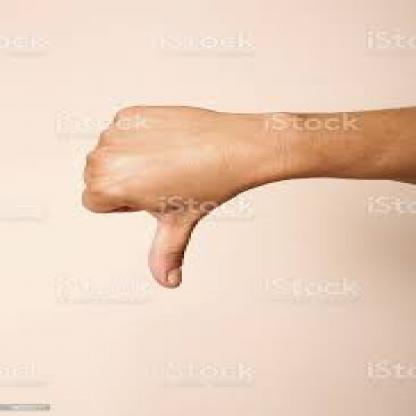thumb_down: (80, 94, 258, 294)
